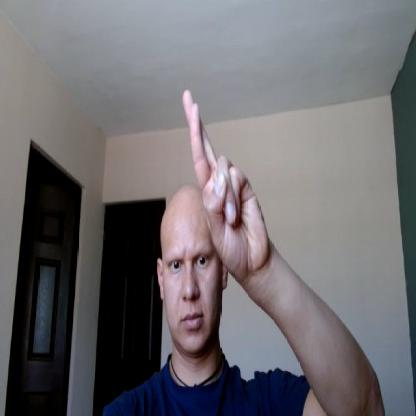R: (182, 86, 269, 276)
